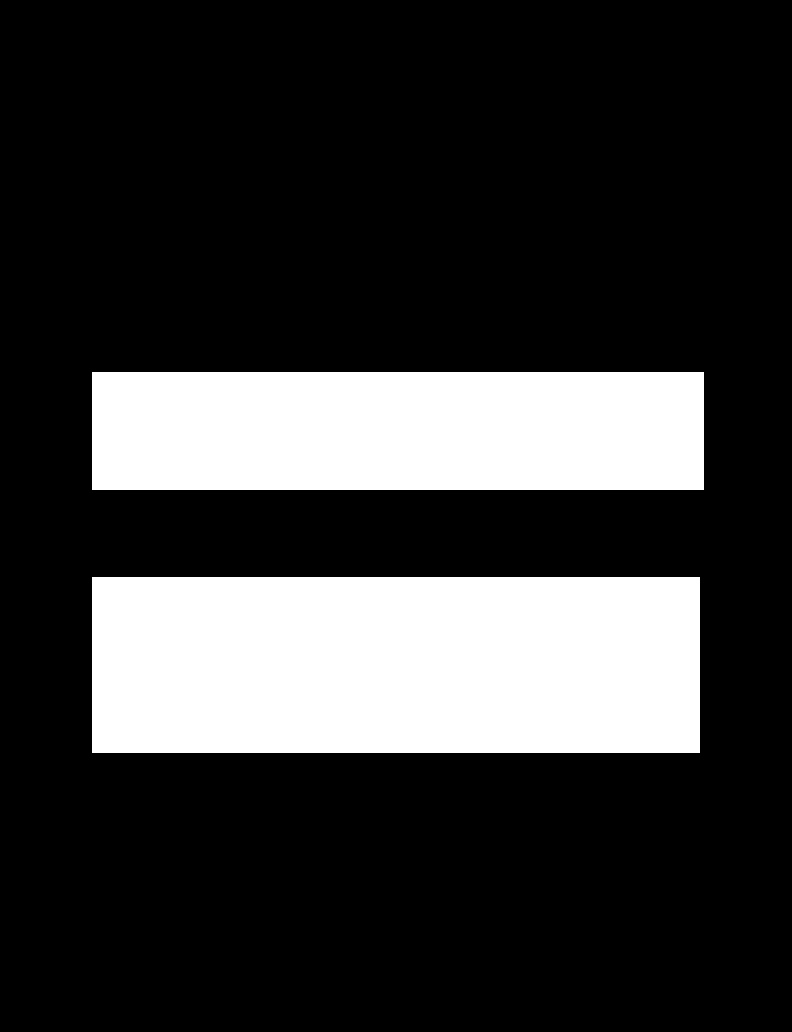table: (92, 577, 699, 752), (92, 372, 703, 489)
